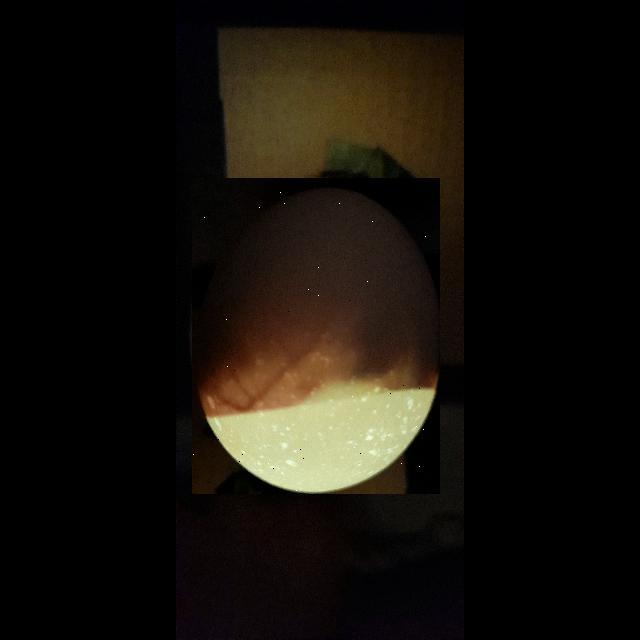Fertile: (192, 178, 440, 494)
